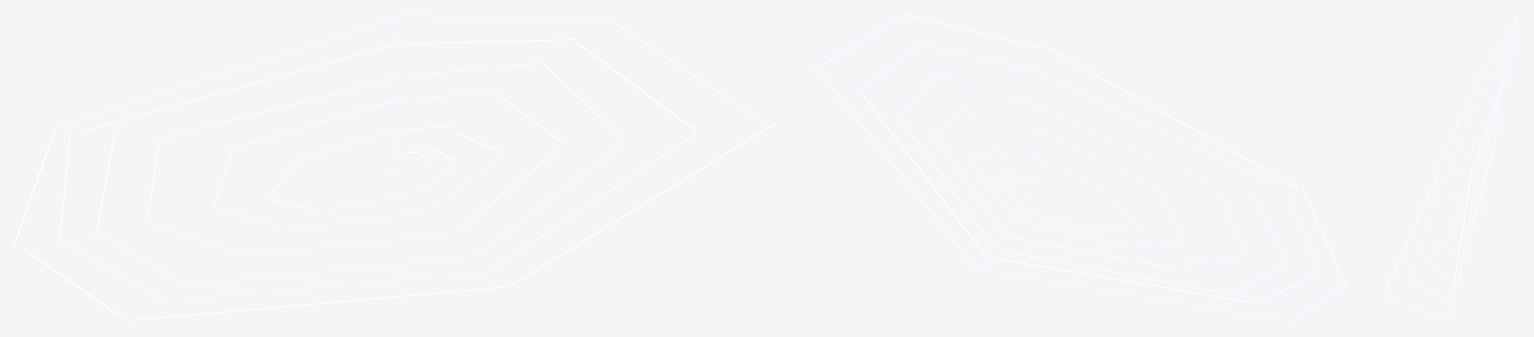
The model's file is web4.glb.
3 renders of one model, left to right at view 1: azimuth 30°, elevation 25°; view 2: azimuth 150°, elevation 25°; view 3: azimuth 270°, elevation 25°, orthographic. The views are drawn at different scales.
Visible parts, largest first — view 1: Ribbon; view 2: Ribbon (×3); view 3: Ribbon (×4).
Boxes of the visible parts, x1,y1,x2,y2 form: Ribbon: [127, 286, 507, 320]; Ribbon (×3): [813, 46, 1297, 302]; Ribbon (×4): [1383, 163, 1477, 318].
Size of the model in its own units: 0.7233 by 0.2888 by 0.1767.
2 materials, 2 textured.
